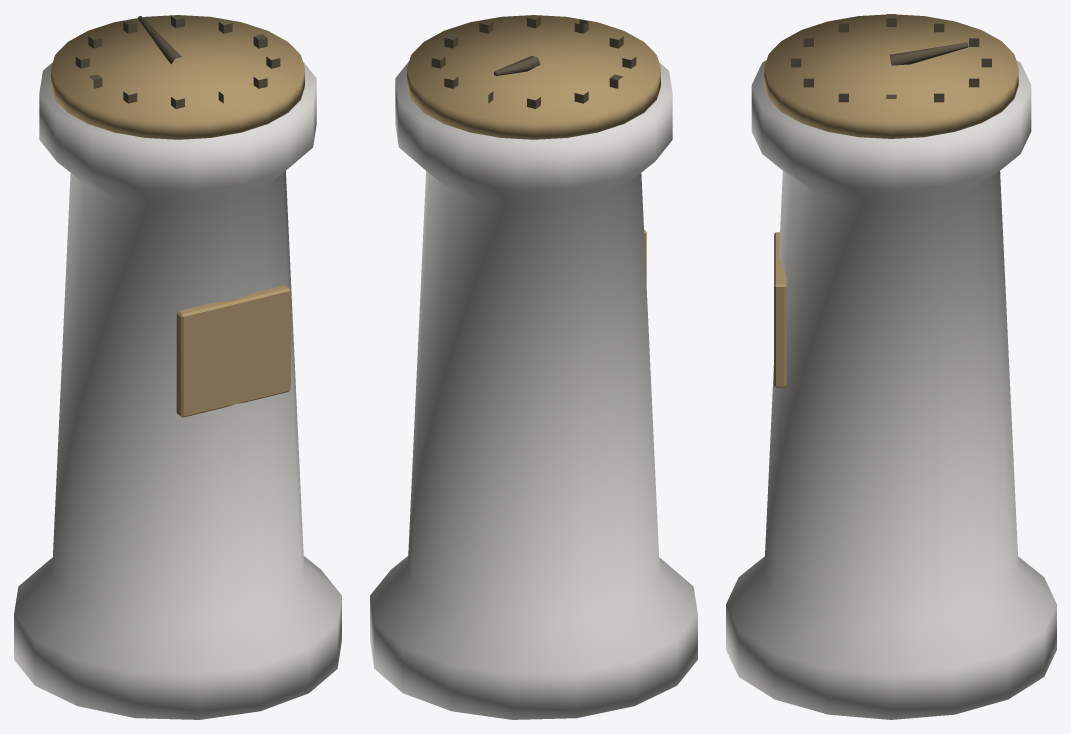
File: marker.glb
3 views of the same model, side by side, from view 1: azimuth 30°, elevation 25°; view 2: azimuth 150°, elevation 25°; view 3: azimuth 270°, elevation 25° (orthographic).
Parts seen in each view (by area): view 1: marker; view 2: marker; view 3: marker.
Boxes of the visible parts, bbox=[...] form: marker: bbox=[14, 15, 341, 719]; marker: bbox=[370, 15, 697, 719]; marker: bbox=[726, 14, 1056, 719].
Bounding box in the file's own units: 0.52 × 1.05 × 0.52.
